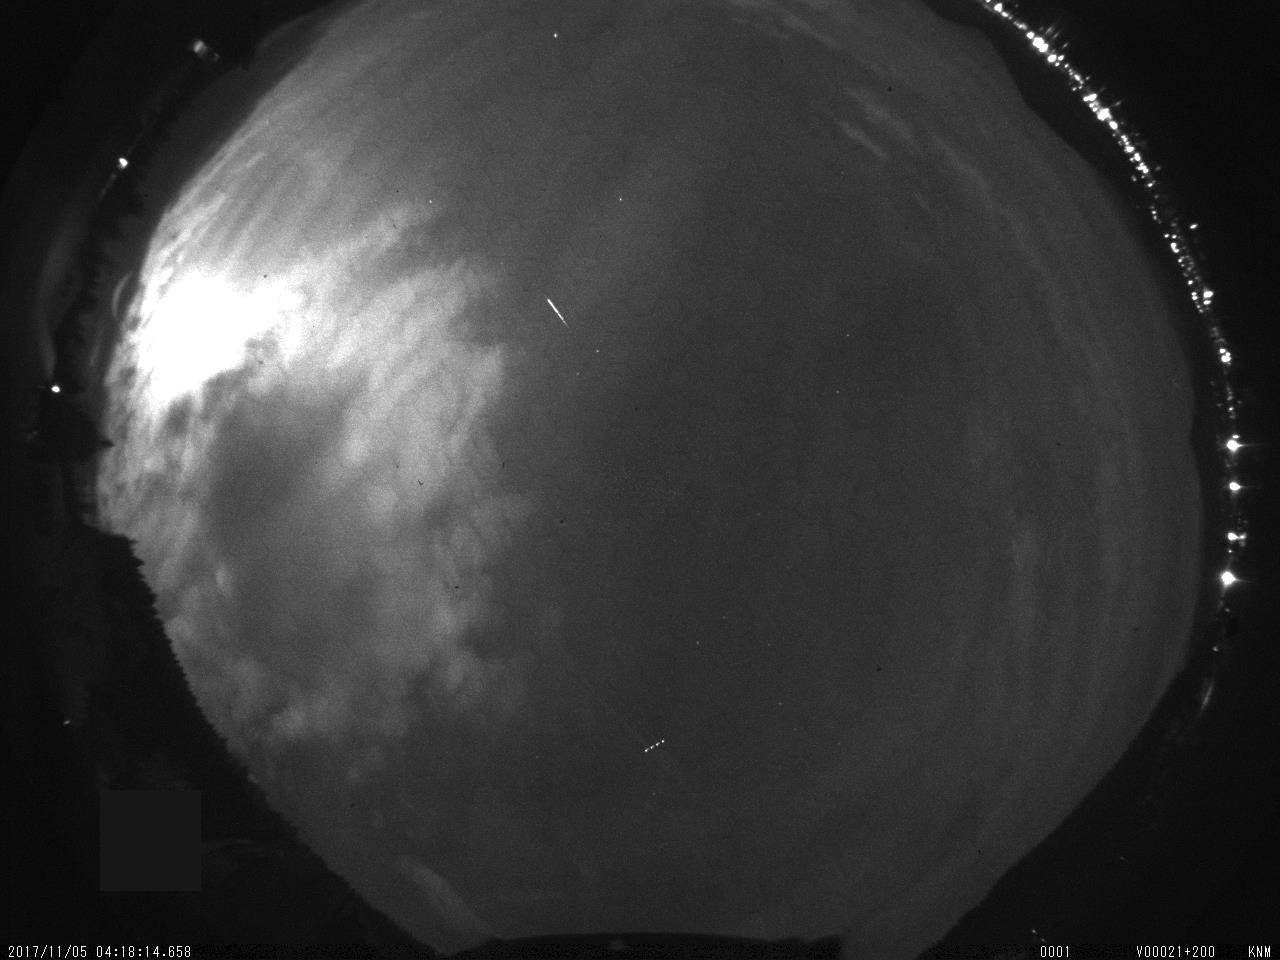meteor: (539, 280, 580, 342)
